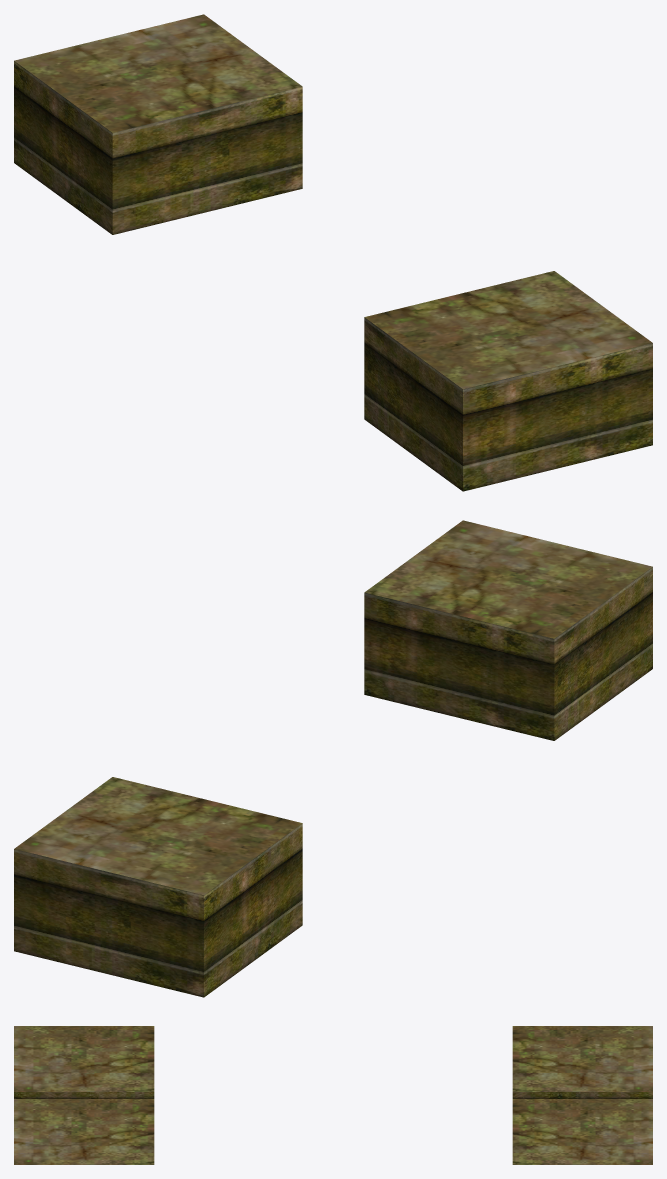
The model's file is OVERHILL_A_01_LINE435.fbx.
3 views of the same model, one above another, from view 1: azimuth 30°, elevation 25°; view 2: azimuth 150°, elevation 25°; view 3: azimuth 270°, elevation 25° (orthographic). The views are drawn at different scales.
Visible parts, largest first — view 1: OVERHILL_A_01_LINE435; view 2: OVERHILL_A_01_LINE435; view 3: OVERHILL_A_01_LINE435.
Boxes of the visible parts, x1,y1,x2,y2 form: OVERHILL_A_01_LINE435: (14, 14, 652, 491); OVERHILL_A_01_LINE435: (14, 520, 652, 997); OVERHILL_A_01_LINE435: (14, 1026, 652, 1164).
Size of the model in its own units: 14477 by 7450 by 59254.
2 materials, 2 textured.
